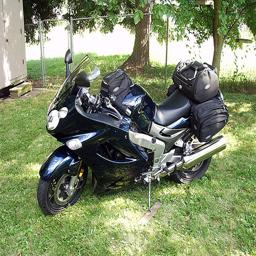motorbike: (128, 70, 256, 256)
